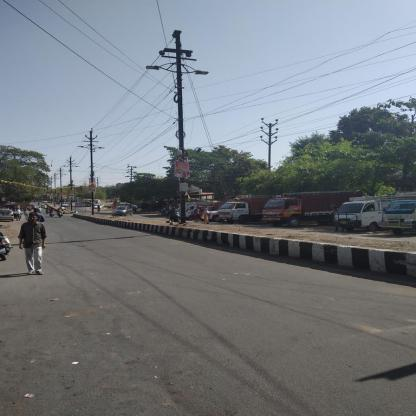Electrical Pole: (147, 24, 213, 223)
